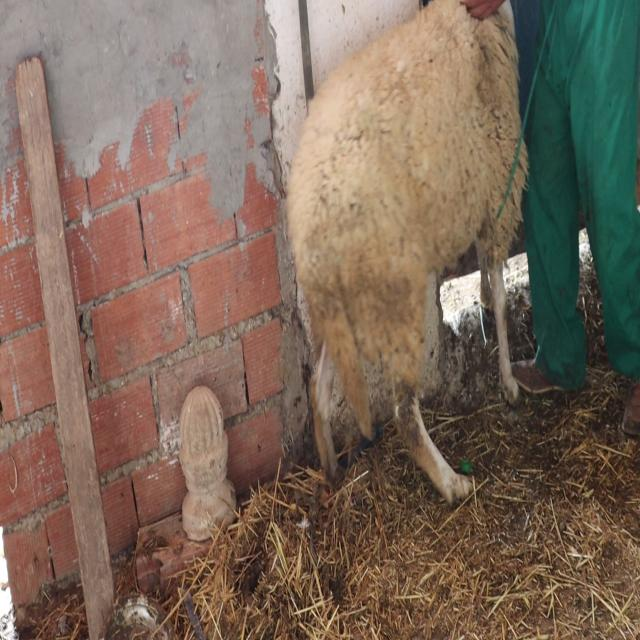Score_4: (287, 0, 528, 503)
